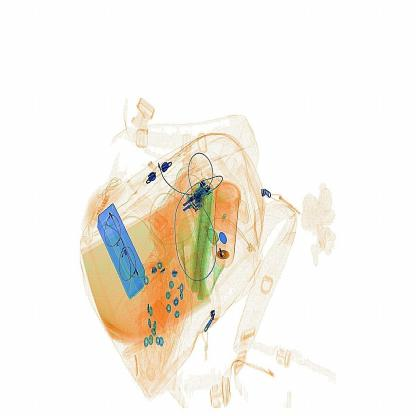wrench: (214, 239, 234, 272)
